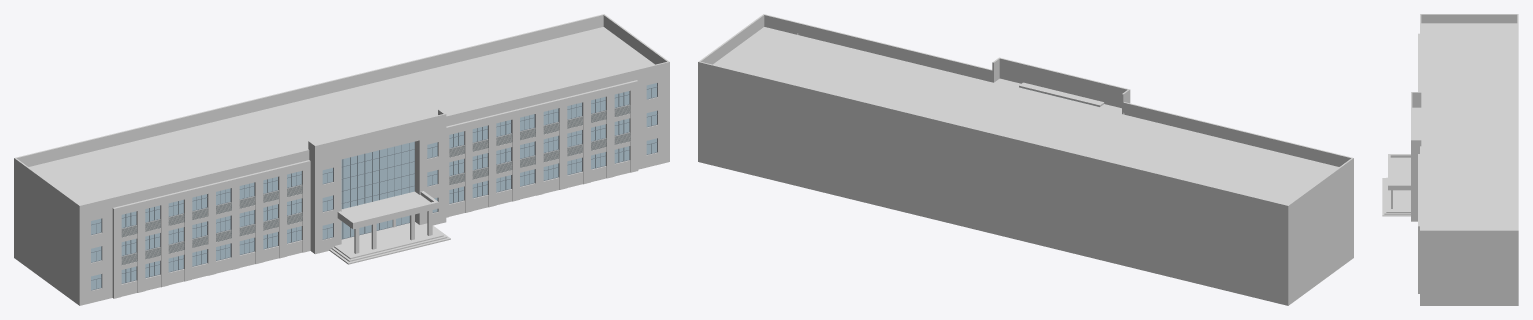
File: building_4.gltf
3 views of the same model, side by side, from view 1: azimuth 30°, elevation 25°; view 2: azimuth 150°, elevation 25°; view 3: azimuth 270°, elevation 25° (orthographic). The views are drawn at different scales.
Parts seen in each view (by area): view 1: 办公楼38; view 2: 办公楼38; view 3: 办公楼38.
Part boxes in pixels (x1=…): 办公楼38: x1=14, y1=14, x2=669, y2=305; 办公楼38: x1=698, y1=14, x2=1353, y2=305; 办公楼38: x1=1382, y1=14, x2=1518, y2=305.
Bounding box in the file's own units: 77.99 × 13.66 × 20.7.
